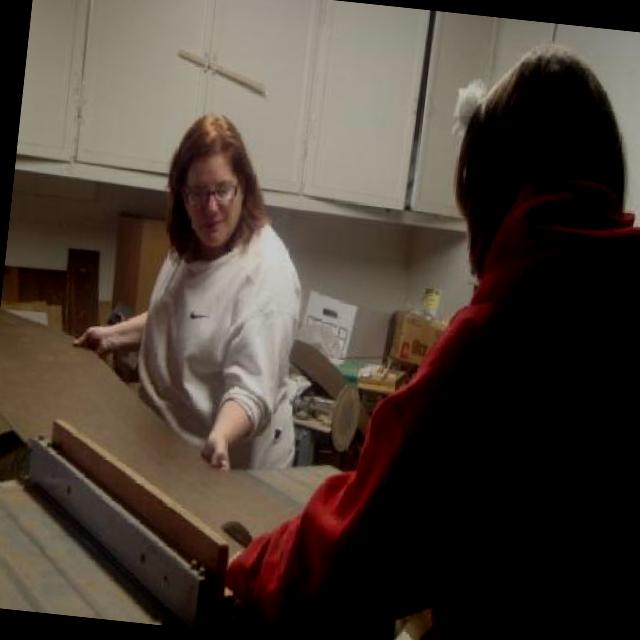Person: (255, 43, 636, 640), (58, 97, 330, 481)
